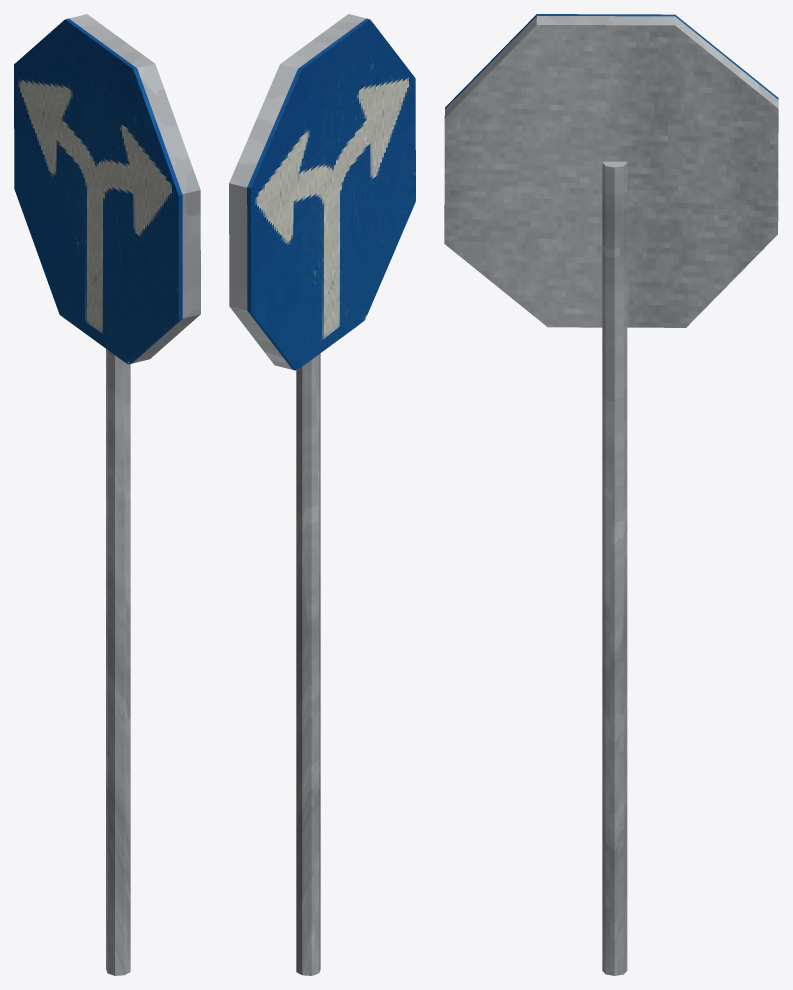
Rendered from ArrowSign.glb.
The picture shows the model from 3 angles, left to right: view 1: azimuth 30°, elevation 25°; view 2: azimuth 150°, elevation 25°; view 3: azimuth 270°, elevation 25°; orthographic projection.
Parts seen in each view (by area): view 1: Cube; view 2: Cube; view 3: Cube.
Boxes of the visible parts, <box> form: Cube: <box>14,14,200,975</box>; Cube: <box>229,14,415,975</box>; Cube: <box>444,14,778,975</box>.
Bounding box in the file's own units: 0.135 × 3.5 × 1.12.
Materials: 2 (2 with a texture image).
